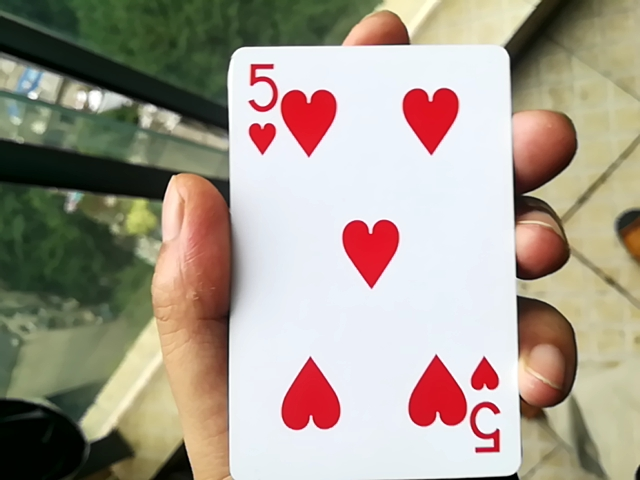hx 5: (209, 27, 530, 480)
